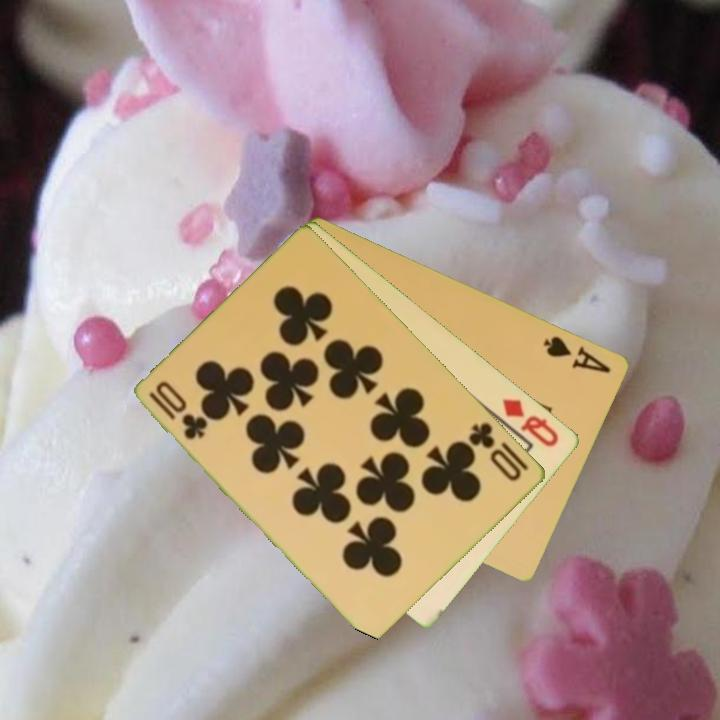10c: (465, 418, 525, 484), (146, 388, 211, 443)
As: (540, 332, 614, 376)
Qd: (499, 394, 563, 450)
